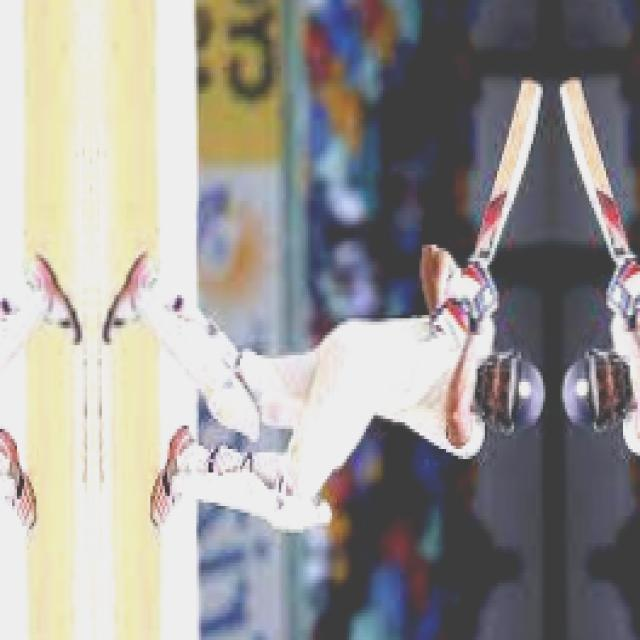toe: (515, 72, 548, 106)
